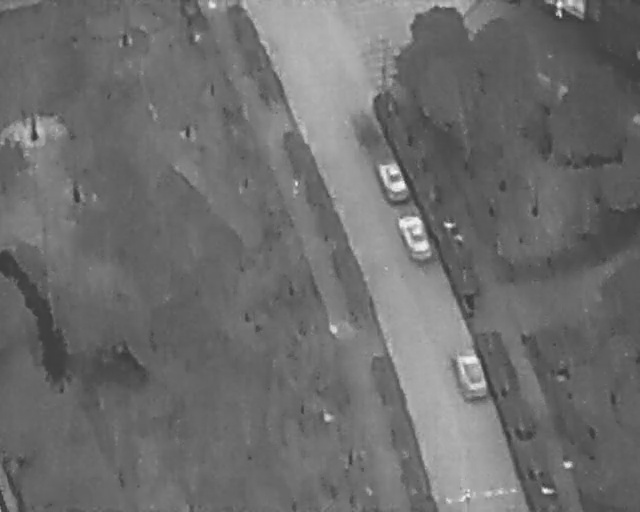Car: (450, 344, 490, 405), (373, 153, 414, 207), (394, 210, 435, 263)
